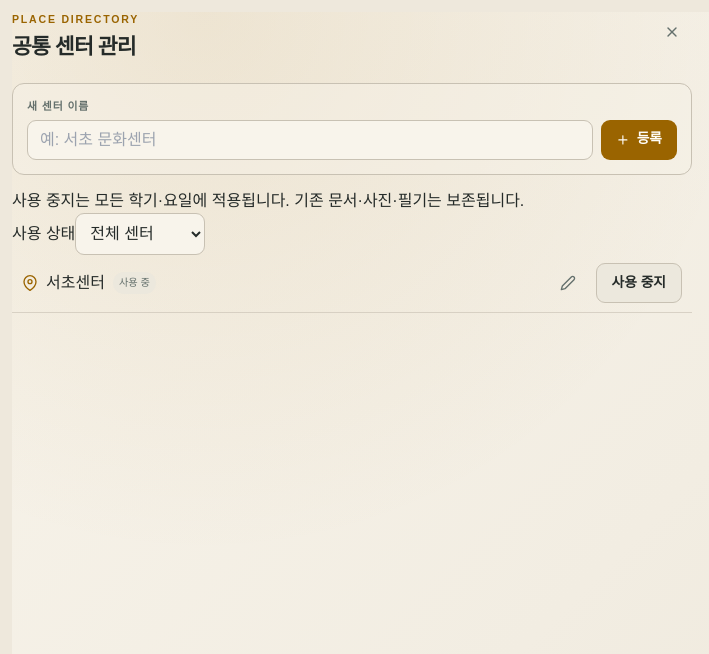
Scenario: keeps failed name edits and prevents writes offline
The image size is (709, 654).
Step 1. Click the button named "서초센터 이름 변경" → point(568, 283), box [548,263,588,303]
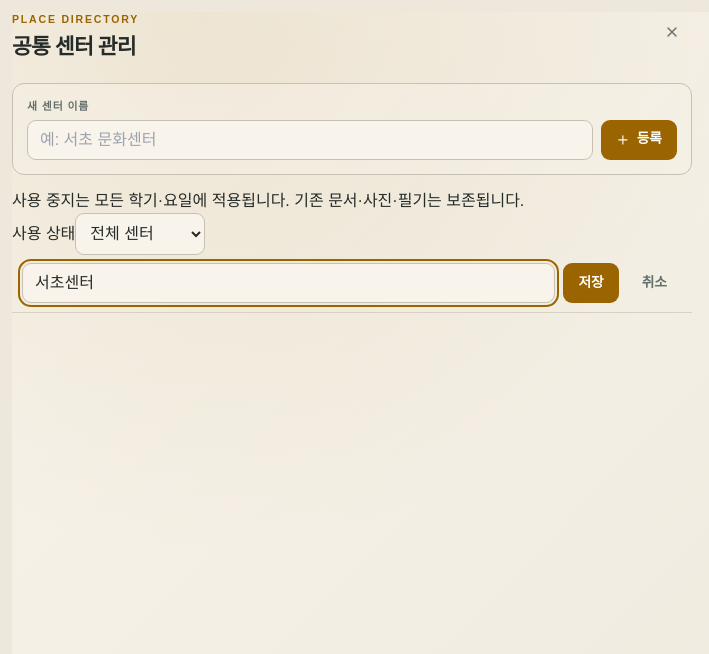
Step 2. Replace the text in the field named "서초센터 새 이름" with "변경할 이름" → point(289, 283), box [22,263,555,303]
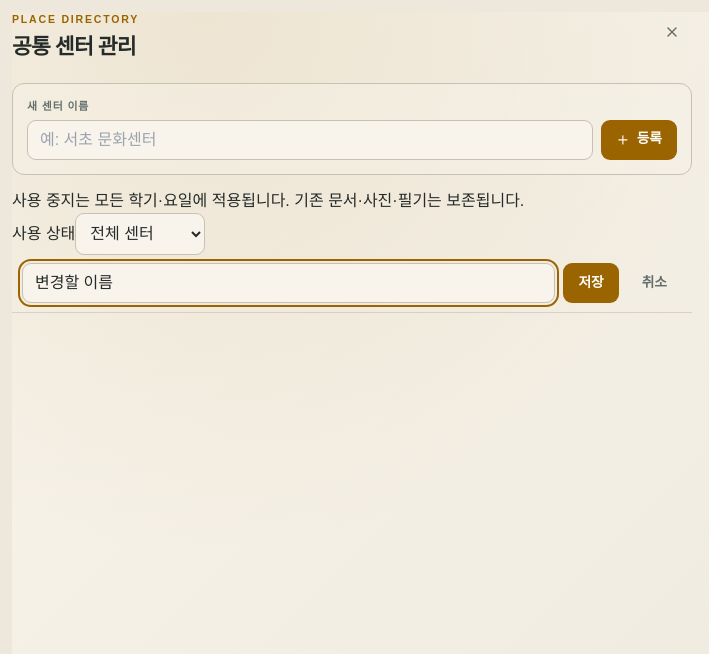
Step 3. Click the button "저장" → point(591, 283), box [563,263,619,303]
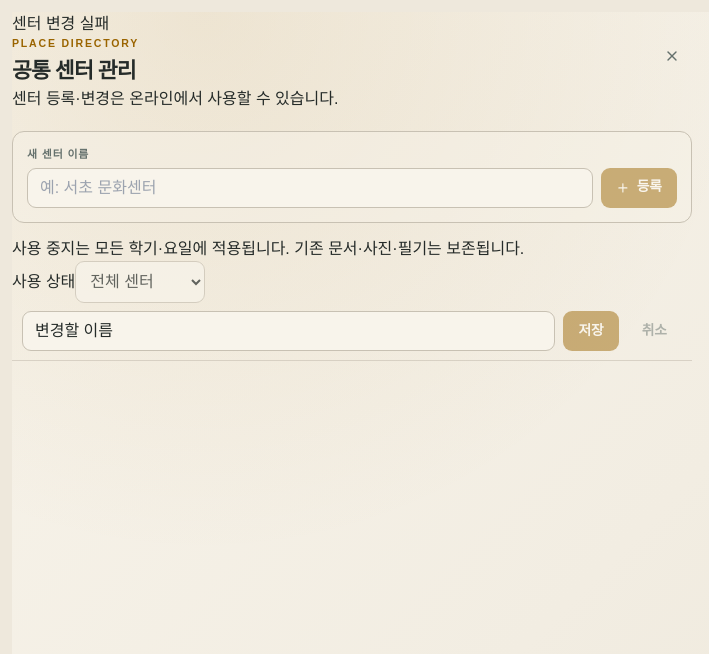
Expected: the button "저장" is disabled, [563,311,619,351]
Expected: the text "센터 변경 실패" is shown, [12,15,109,32]
